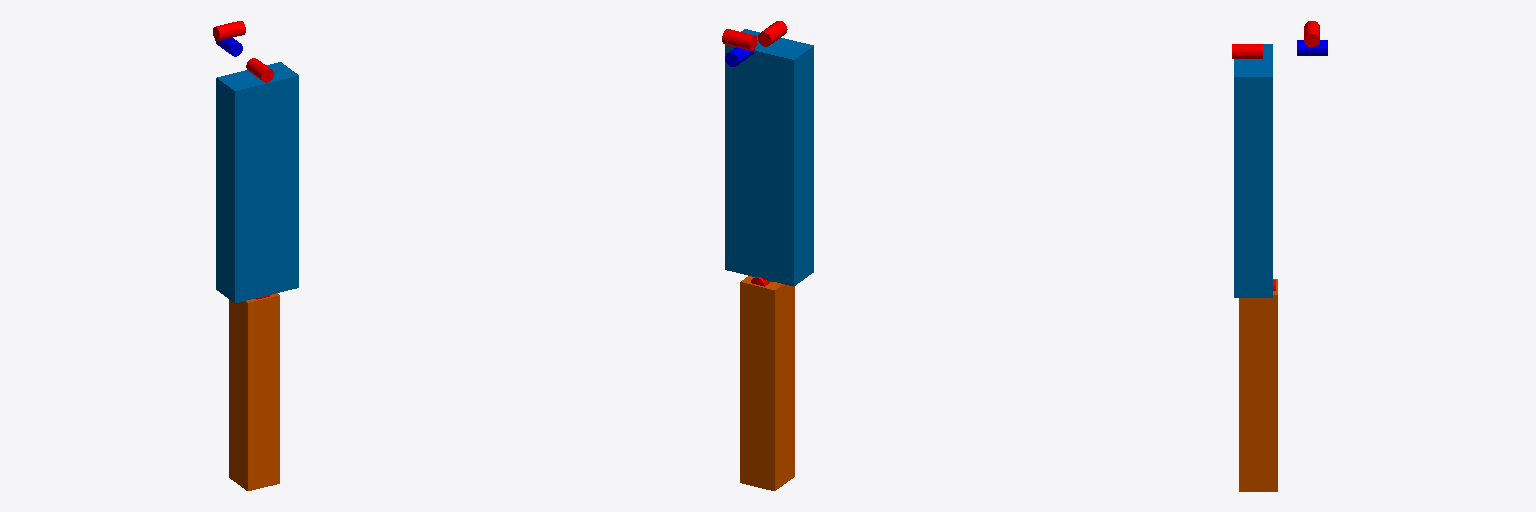
The robot description file, URDF, robot "test":
<?xml version="1.0"?>
<robot name="test">
    <link name="torso">
        <visual>
            <geometry>
                <cylinder length="0.04" radius="0.01"/>
            </geometry>
            <origin xyz="0 0 0" rpy="0 1.57 1.57"/>
            <axis xyz="0 0 0" />
            <material name="blue">
                <color rgba="0.0 0.0 1.0 1.0"/>
            </material>
        </visual>
        <inertial>
            <mass value="0"/>
            <inertia ixx="0" ixy="0" ixz="0.0" iyy="0" iyz="0.0" izz="0"/>
        </inertial>
    </link>

    <!-- ****************************Right leg joints******************************************** -->

    <joint name="jointHipR" type="revolute">
        <parent link="torso"/>
        <child link="hipCylinderR"/>
        <origin xyz="0 0.0 0.0" rpy="0 0 0"/>
        <axis xyz="1 0 0"/>
        <limit effort="90" lower="-0.174533" upper="0" velocity="10"/>
        <dynamics damping="0.01"/>
    </joint>


    <link name="hipCylinderR">
        <visual>
            <geometry>
                <cylinder length="0.04" radius="0.01"/>
            </geometry>
            <origin xyz="0 0 0.02" rpy="0 1.57 0"/>
            <axis xyz="0 0 0" />
            <material name="red">
                <color rgba="1 0.0 0.0 1.0"/>
            </material>
        </visual>
        <inertial>
            <mass value="100"/>
            <inertia ixx="0" ixy="0" ixz="0.0" iyy="0" iyz="0.0" izz="0"/>
        </inertial>
    </link>

    <joint name="jointUpperLegR" type="fixed">
        <parent link="hipCylinderR"/>
        <child link="upperLegCylinderR"/>
        <origin xyz="0 -0.0830 -0.0250" rpy="0 0 0"/>
        <axis xyz="0 1 0"/>
        <limit effort="90" lower="-0.698132" upper="+1.047" velocity="10"/>
        <dynamics damping="0.173402366366"/>
    </joint>

    <link name="upperLegCylinderR">
        <visual>
            <geometry>
                <cylinder length="0.04" radius="0.01"/>
            </geometry>
            <origin xyz="0 0 0.02" rpy="1.57 0 0"/>
            <axis xyz="0 0 0" />
            <material name="red"/>
        </visual>
        <inertial>
            <mass value="0"/>
            <inertia ixx="0" ixy="0" ixz="0.0" iyy="0" iyz="0.0" izz="0"/>
        </inertial>
    </link>

    <joint name="jointLowerLegR" type="revolute">
        <parent link="upperLegCylinderR"/>
        <child link="lowerlegCylinderR"/>
        <origin xyz="0.00110 0.0140 -0.3155" rpy="0 0 0"/>
        <axis xyz="0 1 0"/>
        <limit effort="90" lower="0" upper="1.570796" velocity="10"/>
        <dynamics damping="0.198431592389"/>
    </joint>

    <link name="lowerlegCylinderR">
        <visual>
            <geometry>
                <cylinder length="0.044" radius="0.01"/>
            </geometry>
            <origin xyz="0 0 0" rpy="1.57075 0 0"/>
            <axis xyz="0 0 0" />
            <material name="red"/>
        </visual>
        <inertial>
            <mass value="0"/>
            <inertia ixx="0" ixy="0" ixz="0.0" iyy="0" iyz="0.0" izz="0"/>
        </inertial>
    </link>


   <joint name="fixed_upperLegBridgeR" type="fixed">
       <parent link="upperLegCylinderR"/>
       <child link="upperLegBridgeR"/>
   </joint>

   <link name="upperLegBridgeR">
       <visual>
           <geometry>
               <box size="0.1 0.05 0.3155"/>
           </geometry>
           <origin xyz="0.0005 0.007 -0.15" rpy="0 0 0"/>
           <material name="upperLegLinkColor" />
       </visual>
       <inertial>
           <mass value="1.94"/>
           <inertia ixx="0.0104" ixy="-0.00000195" ixz="0.0000231" iyy="0.00933" iyz="-0.000127" izz="0.00161"/>
           <origin xyz="-0.00154  -0.00421 -0.111" rpy="0 0 0"/>
       </inertial>
       <collision>
           <geometry>
               <box size="0.1 0.05 0.3155"/>
           </geometry>
           <origin xyz="0.0005 0.007 -0.15" rpy="0 0 0"/>
       </collision>
   </link>

   <joint name="fixed_lowerLegBridgeR" type="fixed">
       <parent link="lowerlegCylinderR"/>
       <child link="lowerLegBridgeR"/>
   </joint>

   <link name="lowerLegBridgeR">
       <visual>
           <geometry>
               <box size="0.05 0.05 0.28"/>
           </geometry>
           <origin xyz="-0.0015 0 -0.14" rpy="0 0 0"/>
           <material name="upperLegLinkColor" />
       </visual>
       <inertial>
           <mass value="0.267"/>
           <inertia ixx="0.00252" ixy="-0.000000411" ixz="-0.0000238" iyy="0.00245" iyz="0.0000366" izz="0.000110"/>
           <origin xyz="0.00135  0.00496 -0.105" rpy="0 0 0"/>
       </inertial>
       <collision>
           <geometry>
               <box size="0.05 0.05 0.28"/>
           </geometry>
           <origin xyz="0.0015 0 -0.14" rpy="0 0 0"/>
           <!-- <contact_coefficient mu="0.0960723602789"  resitution="0"  k_p="4000"  k_d="0.198431592389" /> -->
       </collision>
   </link>

</robot>

--- Render facts (derived) ---
3 views of the same robot in one strip: view 1: azimuth 30°, elevation 25°; view 2: azimuth 150°, elevation 25°; view 3: azimuth 270°, elevation 25° (orthographic).
Model test with 6 links and 5 joints (2 revolute, 3 fixed), rooted at torso, posed all joints at 0.
Visible links, largest first — view 1: upperLegBridgeR, lowerLegBridgeR; view 2: upperLegBridgeR, lowerLegBridgeR, hipCylinderR; view 3: upperLegBridgeR, lowerLegBridgeR.
Boxes of the visible links, x1,y1,x2,y2 form: upperLegBridgeR: [216, 62, 298, 302]; lowerLegBridgeR: [229, 293, 279, 490]; upperLegBridgeR: [725, 29, 813, 286]; lowerLegBridgeR: [740, 276, 794, 490]; hipCylinderR: [722, 29, 757, 50]; upperLegBridgeR: [1234, 44, 1272, 297]; lowerLegBridgeR: [1239, 279, 1277, 491].
Bounding box of the posed robot: 0.1 × 0.123 × 0.6505 m (x, y, z).
Geometry: primitives only (box / cylinder / sphere), no mesh files.